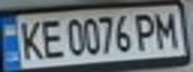0: (63, 16, 84, 56), (81, 13, 100, 55)
6: (112, 11, 136, 53)
7: (96, 12, 115, 54)
E: (36, 17, 66, 61)
K: (12, 17, 45, 62)
M: (151, 9, 181, 51)
P: (133, 10, 160, 52)
